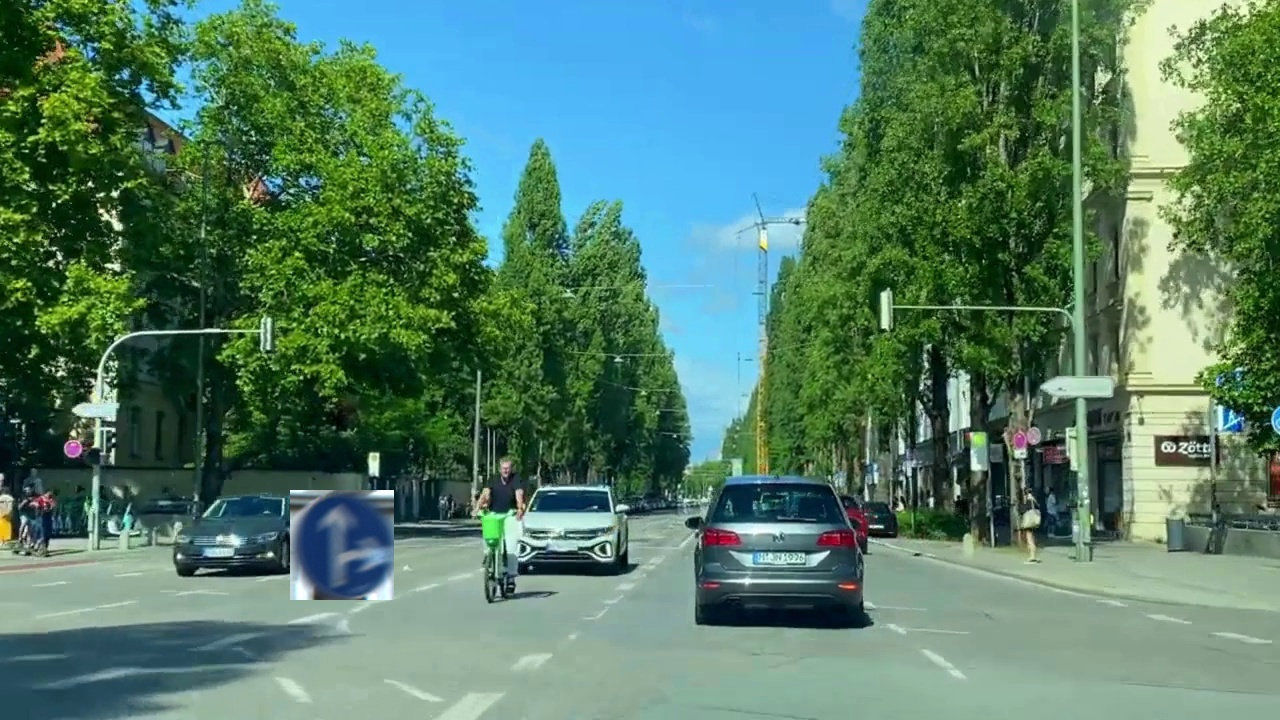Straight/right: (290, 490, 394, 600)
